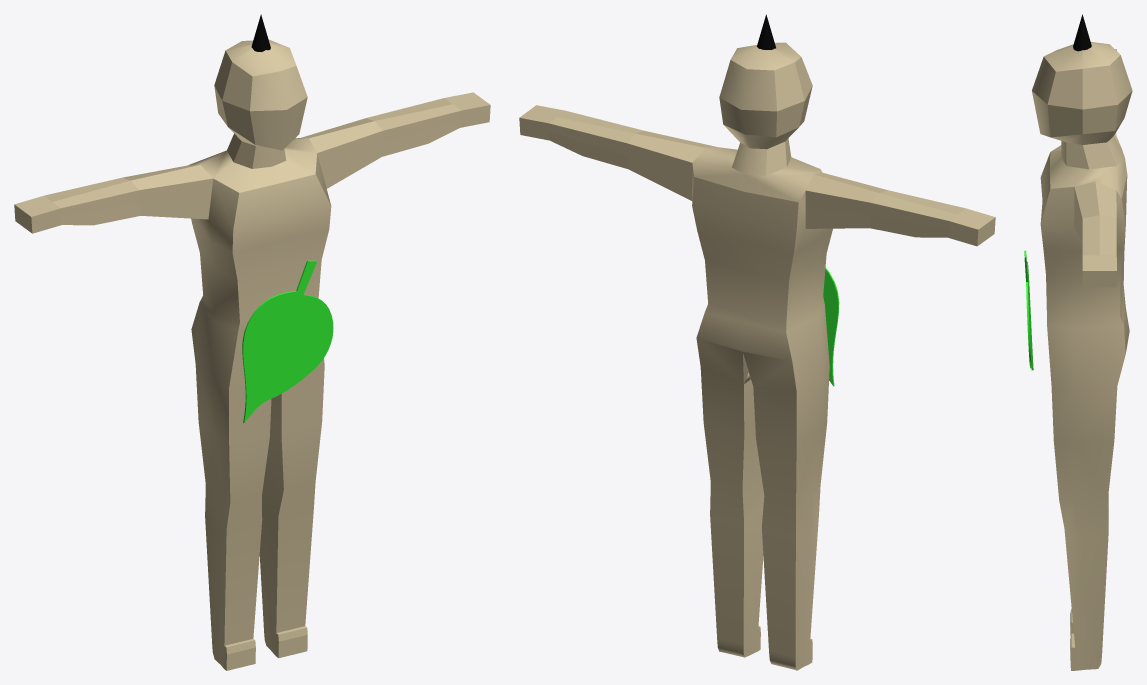
The model's file is people02.FBX.
The picture shows the model from 3 angles, left to right: view 1: azimuth 30°, elevation 25°; view 2: azimuth 150°, elevation 25°; view 3: azimuth 270°, elevation 25°; orthographic projection.
Visible parts, largest first — view 1: 인간옷테스트, 나뭇잎; view 2: 인간옷테스트, 나뭇잎; view 3: 인간옷테스트, 나뭇잎, Cone001.
Part boxes in pixels (x1,y1,x2,y2): 인간옷테스트: [14, 39, 490, 670]; 나뭇잎: [242, 260, 333, 422]; 인간옷테스트: [519, 42, 995, 670]; 나뭇잎: [823, 267, 839, 386]; 인간옷테스트: [1032, 42, 1132, 670]; 나뭇잎: [1024, 250, 1033, 370]; Cone001: [1073, 14, 1091, 51].
Size of the model in its own units: 146 by 195 by 30.01.
3 materials, 1 textured.
